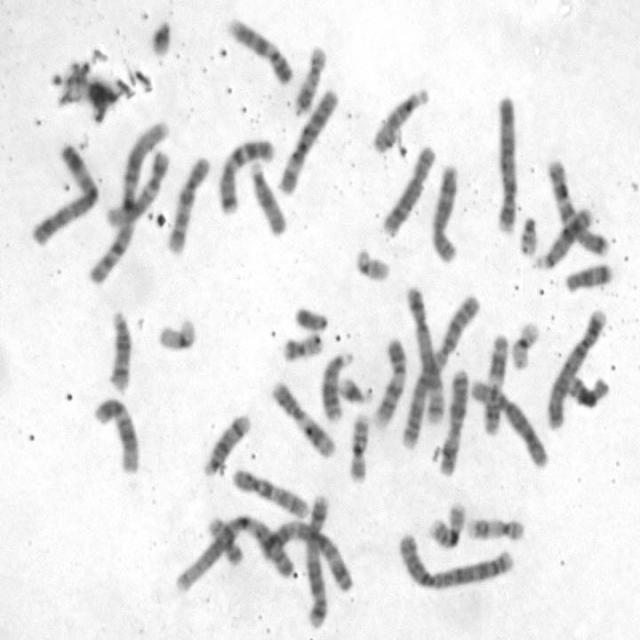A1: (86, 119, 172, 288), (176, 513, 295, 594)
A2: (399, 294, 482, 452), (398, 531, 516, 593)
A3: (31, 142, 100, 247), (261, 518, 355, 593)
B4: (543, 307, 609, 432), (494, 96, 518, 234)
B5: (403, 284, 445, 426), (304, 494, 331, 629)
C10: (166, 156, 211, 256), (234, 468, 310, 522)
C11: (271, 381, 338, 458), (483, 333, 510, 438)
C12: (104, 150, 170, 228), (92, 396, 140, 474)
C6: (468, 378, 548, 470), (276, 88, 342, 199)
C7: (546, 158, 610, 258), (216, 138, 276, 216)
C8: (382, 145, 436, 239), (431, 164, 459, 263)
C9: (228, 16, 294, 87), (372, 337, 408, 431)
D13: (532, 206, 594, 272), (319, 351, 356, 424)
D14: (201, 413, 252, 478), (108, 310, 132, 395)
D15: (371, 87, 431, 153), (251, 162, 289, 240)
E16: (426, 501, 466, 551), (348, 412, 372, 486)
E17: (293, 45, 328, 113), (466, 518, 526, 544)
E18: (565, 264, 615, 295), (569, 374, 609, 412)
F19: (508, 316, 542, 372), (154, 314, 197, 351)
F20: (206, 517, 244, 568), (282, 332, 324, 363)
G21: (338, 376, 374, 406), (150, 20, 173, 58)
G22: (355, 248, 390, 282), (519, 218, 538, 256)
X: (438, 368, 470, 478)
Y: (293, 306, 329, 333)
